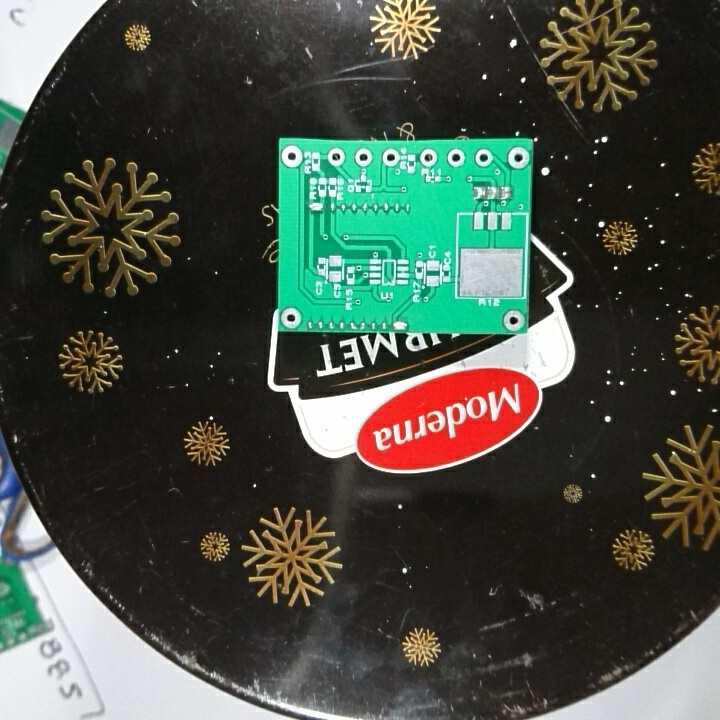F: (505, 146, 530, 172), (501, 309, 526, 333), (281, 144, 302, 170), (279, 305, 303, 327), (418, 147, 439, 169), (445, 147, 466, 168), (474, 147, 494, 169), (326, 147, 346, 168), (382, 148, 400, 169), (354, 148, 373, 167)
P: (307, 200, 326, 215), (390, 318, 408, 332)
